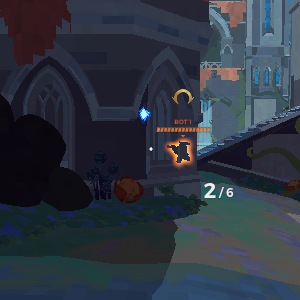model: (168, 137, 191, 167)
